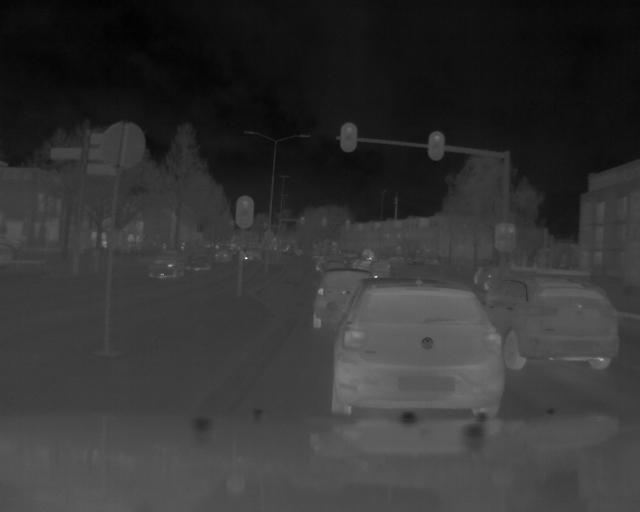car: (329, 280, 507, 417), (510, 277, 622, 371), (148, 254, 189, 281)
